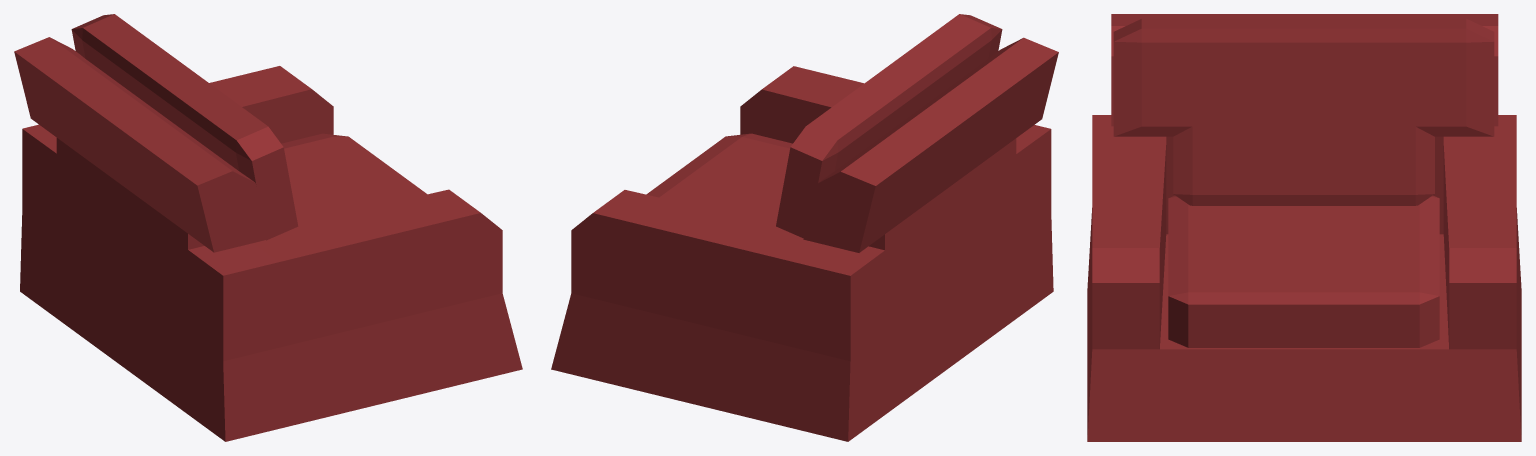
The model's file is Sofa.glb.
3 renders of one model, left to right at view 1: azimuth 30°, elevation 25°; view 2: azimuth 150°, elevation 25°; view 3: azimuth 270°, elevation 25°, orthographic. The views are drawn at different scales.
Parts seen in each view (by area): view 1: Sofa; view 2: Sofa; view 3: Sofa.
Part boxes in pixels (bbox=[...]): Sofa: bbox=[14, 14, 522, 441]; Sofa: bbox=[551, 14, 1058, 441]; Sofa: bbox=[1087, 14, 1521, 441].
Size of the model in its own units: 0.7369 by 0.6276 by 0.8354.
